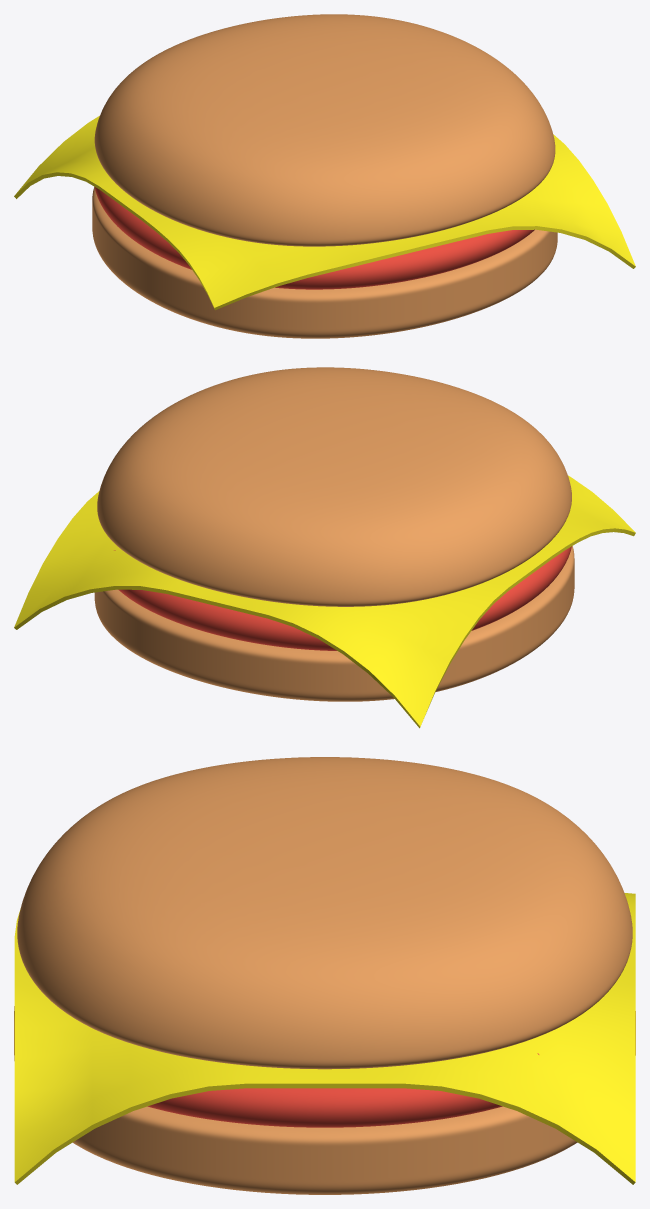
The model's file is hamburger.glb.
The picture shows the model from 3 angles, top to bottom: view 1: azimuth 30°, elevation 25°; view 2: azimuth 150°, elevation 25°; view 3: azimuth 270°, elevation 25°; orthographic projection. The views are drawn at different scales.
Parts seen in each view (by area): view 1: Cube.002, Cube, Plane, Cube.001; view 2: Cube.002, Plane, Cube, Cube.001; view 3: Cube.002, Plane, Cube, Cube.001.
Boxes of the visible parts, <box> form: Cube.002: <box>94,14,555,246</box>; Cube: <box>92,187,557,338</box>; Plane: <box>14,115,635,310</box>; Cube.001: <box>94,187,534,289</box>; Cube.002: <box>97,367,571,606</box>; Plane: <box>14,475,635,728</box>; Cube: <box>94,546,574,701</box>; Cube.001: <box>114,546,571,650</box>; Cube.002: <box>17,757,632,1069</box>; Plane: <box>14,893,635,1184</box>; Cube: <box>14,1006,635,1194</box>; Cube.001: <box>147,1053,539,1127</box>.
Bounding box in the file's own units: 9.26 × 4.04 × 9.17.
